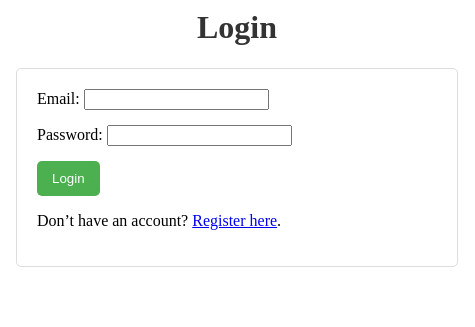
it: User Login › Checks for invalid email
Type "dietdew" into the password field labelled "Password:". click: [200, 136]
box: [107,125,292,146]
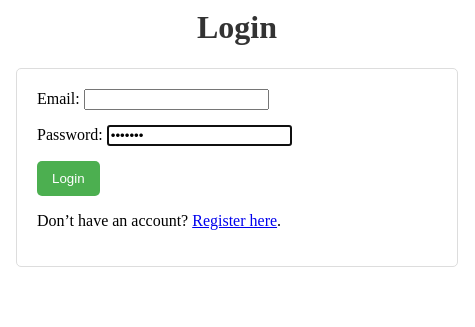
Type "sdfsd" into the field with id "email". click: [177, 100]
box: [84,89,269,110]
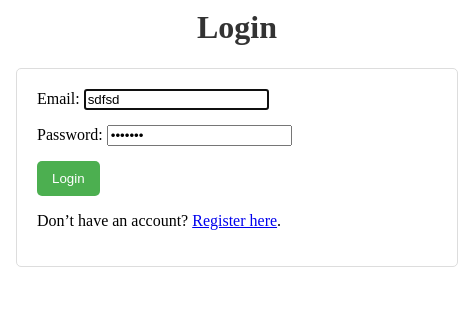
Replace the text in the field with id "email" with "sdfsd@fsd". click: [177, 100]
box: [84,89,269,110]
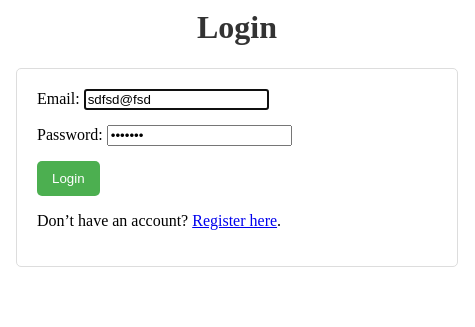
Click the button "Login". click: [69, 179]
box: [37,161,100,196]
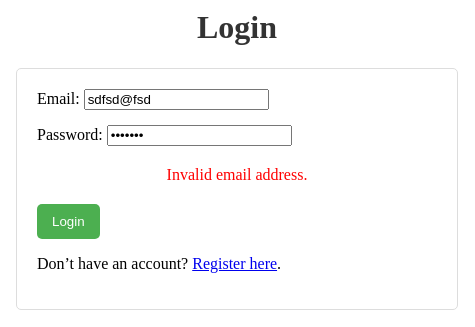
Now the text "Invalid email address." is shown, box [167,166,307,183]
